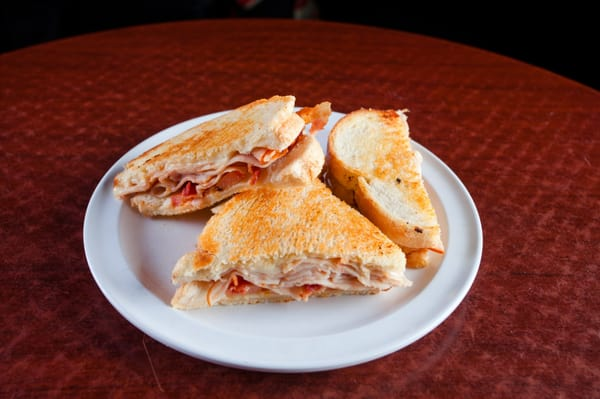soup: (170, 179, 410, 310), (112, 95, 329, 217), (326, 107, 443, 257)
